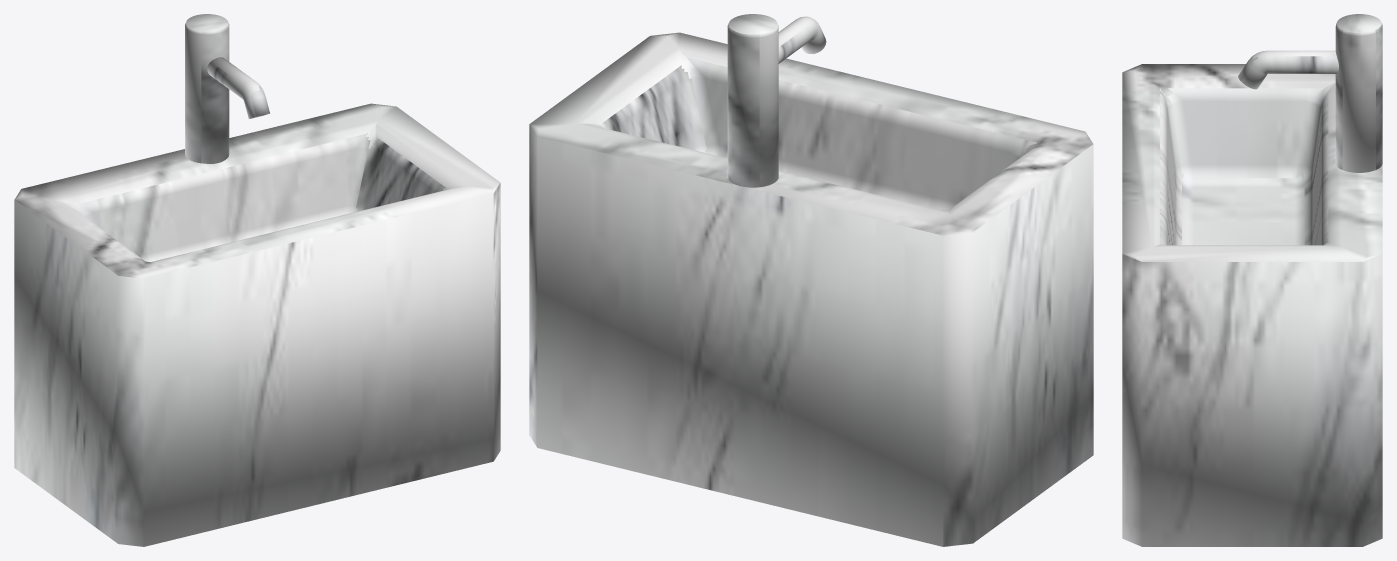
Rendered from sink.fbx.
The picture shows the model from 3 angles, left to right: view 1: azimuth 30°, elevation 25°; view 2: azimuth 150°, elevation 25°; view 3: azimuth 270°, elevation 25°; orthographic projection. The views are drawn at different scales.
Parts seen in each view (by area): view 1: Cube; view 2: Cube; view 3: Cube.
Part boxes in pixels (<box>): Cube: <box>14,14,500,546</box>; Cube: <box>529,14,1093,546</box>; Cube: <box>1122,14,1382,546</box>.
Size of the model in its own units: 1994 by 1992 by 1108.
1 material, 1 textured.
